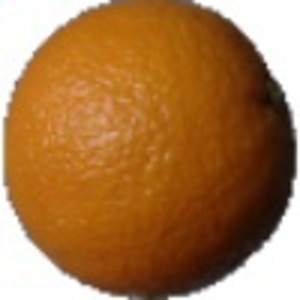laranja: (3, 4, 296, 298)
